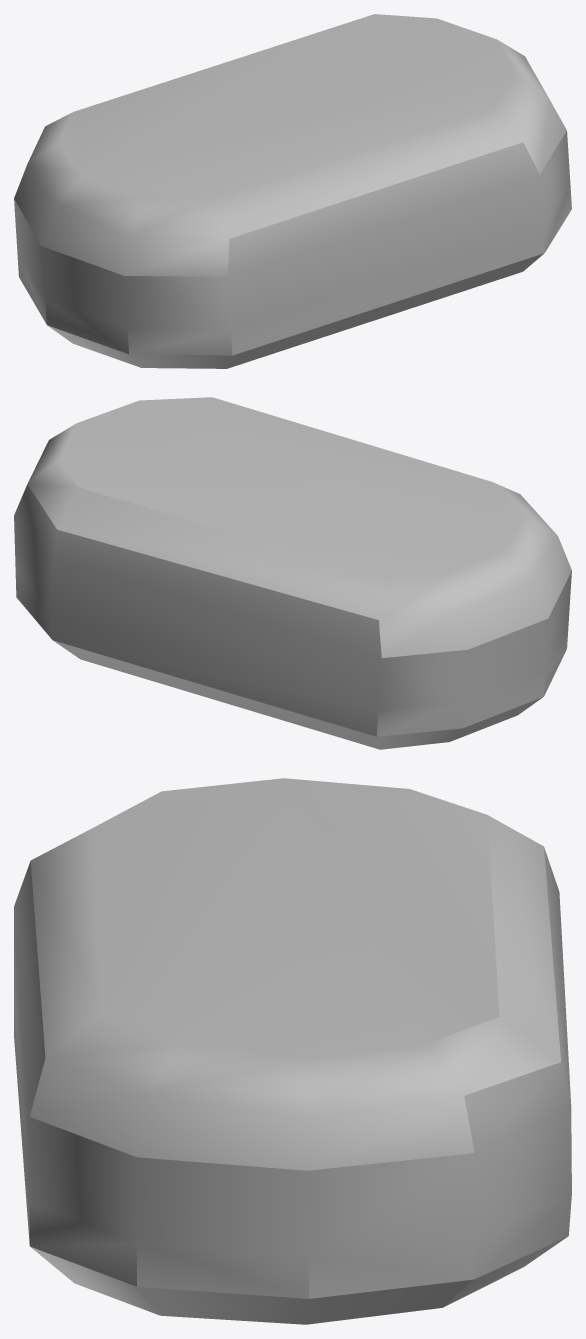
File: CLR_button.glb
3 renders of one model, top to bottom at view 1: azimuth 30°, elevation 25°; view 2: azimuth 150°, elevation 25°; view 3: azimuth 270°, elevation 25°, orthographic. The views are drawn at different scales.
Visible parts, largest first — view 1: CLR_button; view 2: CLR_button; view 3: CLR_button.
Part boxes in pixels (x1,y1,x2,y2): CLR_button: (14,14,571,368); CLR_button: (14,397,571,749); CLR_button: (14,778,571,1324).
Bounding box in the file's own units: 0.00221 × 0.00081 × 0.00135.
1 material, 1 textured.
